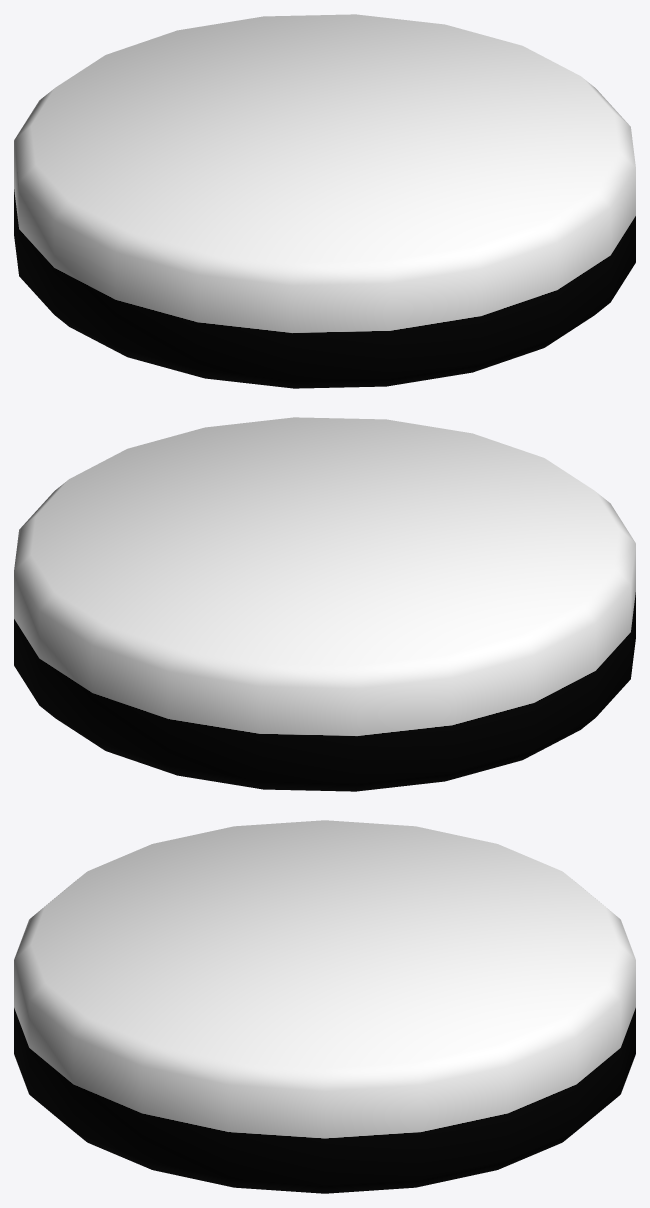
Rendered from Model_Piece.fbx.
The picture shows the model from 3 angles, top to bottom: view 1: azimuth 30°, elevation 25°; view 2: azimuth 150°, elevation 25°; view 3: azimuth 270°, elevation 25°; orthographic projection.
Parts seen in each view (by area): view 1: Piece; view 2: Piece; view 3: Piece.
Part boxes in pixels (x1=…): Piece: x1=14, y1=14, x2=635, y2=388; Piece: x1=14, y1=417, x2=635, y2=791; Piece: x1=14, y1=820, x2=635, y2=1193.
Size of the model in its own units: 0.9 by 0.2 by 0.9.
